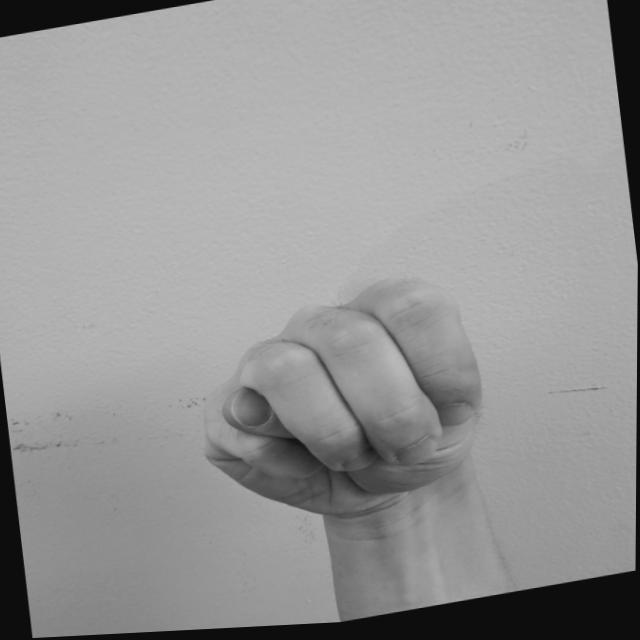M: (178, 261, 504, 545)
